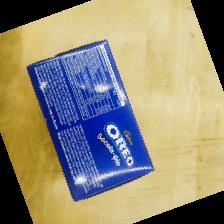Oreo: (26, 39, 156, 203)
